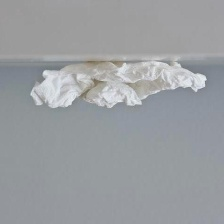tissue: (25, 55, 210, 114)
